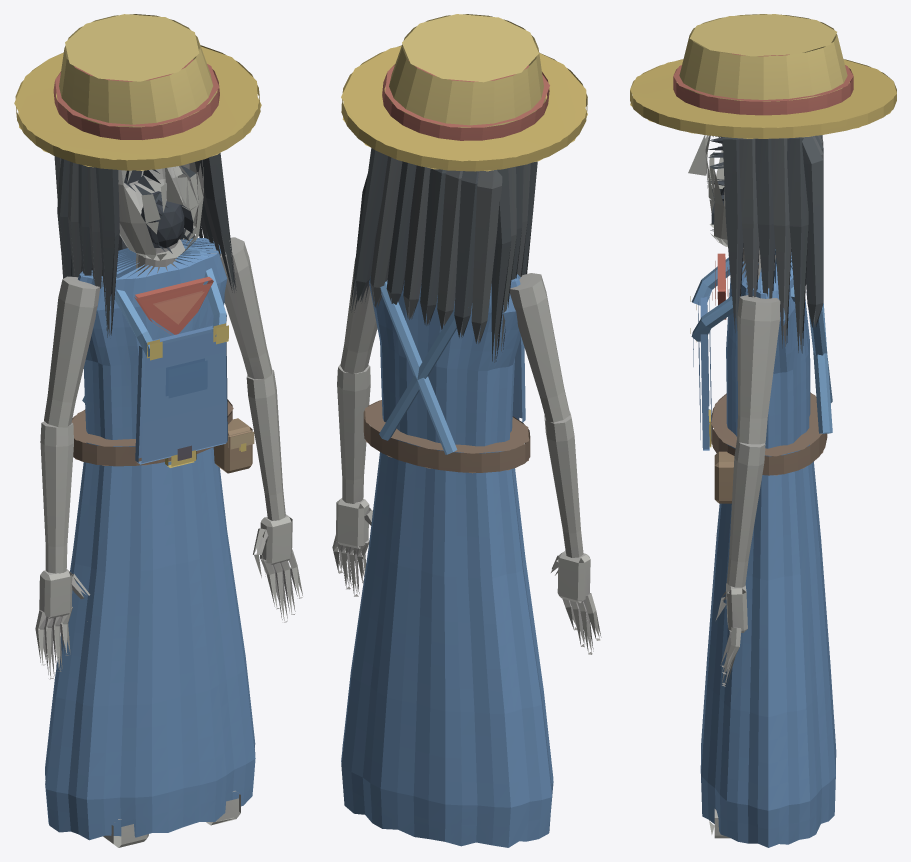
File: SlendrinaFarmer.glb
3 renders of one model, left to right at view 1: azimuth 30°, elevation 25°; view 2: azimuth 150°, elevation 25°; view 3: azimuth 270°, elevation 25°, orthographic.
Visible parts, largest first — view 1: Body, Head, ArmR, ArmL, LegR; view 2: Body, Head, ArmR, ArmL; view 3: Body, Head, ArmL.
Part boxes in pixels (x1,y1,x2,y2): Body: (45, 238, 255, 840); Head: (14, 14, 261, 337); ArmR: (35, 276, 99, 679); ArmL: (211, 237, 302, 622); LegR: (103, 819, 148, 847); Body: (341, 274, 553, 847); Head: (341, 14, 587, 362); ArmR: (510, 273, 601, 654); ArmL: (332, 258, 377, 596); Body: (690, 248, 836, 847); Head: (630, 14, 896, 353); ArmL: (715, 295, 780, 686).
Size of the model in its own units: 2.44 by 6.95 by 2.18.
